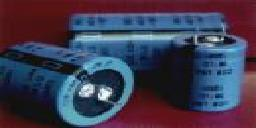Electrolytic-Capacitor: (2, 39, 139, 126), (172, 26, 252, 111)
